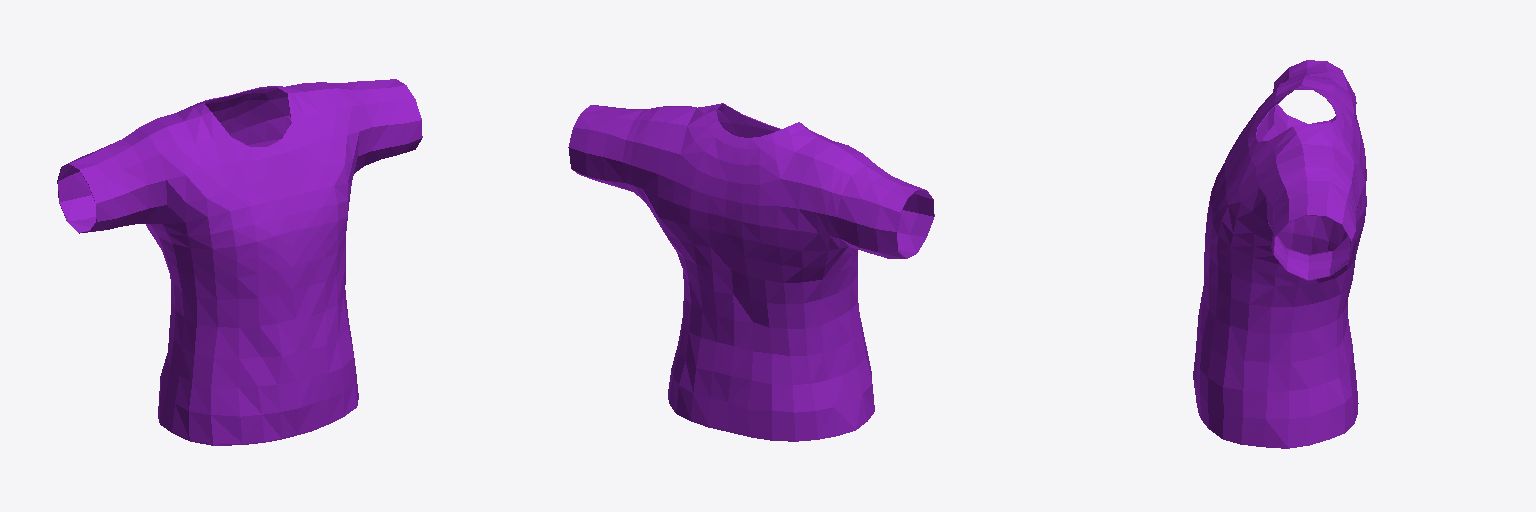
The model's file is base_shirt.obj.
3 views of the same model, side by side, from view 1: azimuth 30°, elevation 25°; view 2: azimuth 150°, elevation 25°; view 3: azimuth 270°, elevation 25° (orthographic).
Parts seen in each view (by area): view 1: T_shirt_bordeaux_T_shirt.004; view 2: T_shirt_bordeaux_T_shirt.004; view 3: T_shirt_bordeaux_T_shirt.004.
Boxes of the visible parts, x1=… form: T_shirt_bordeaux_T_shirt.004: x1=57, y1=79, x2=422, y2=445; T_shirt_bordeaux_T_shirt.004: x1=568, y1=103, x2=934, y2=441; T_shirt_bordeaux_T_shirt.004: x1=1193, y1=60, x2=1366, y2=448.
Bounding box in the file's own units: 72.15 × 62.88 × 33.17.